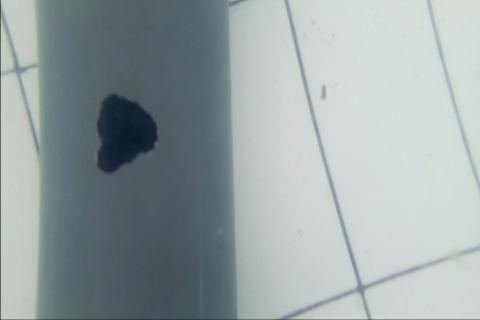kebocoran: (94, 89, 160, 178)
